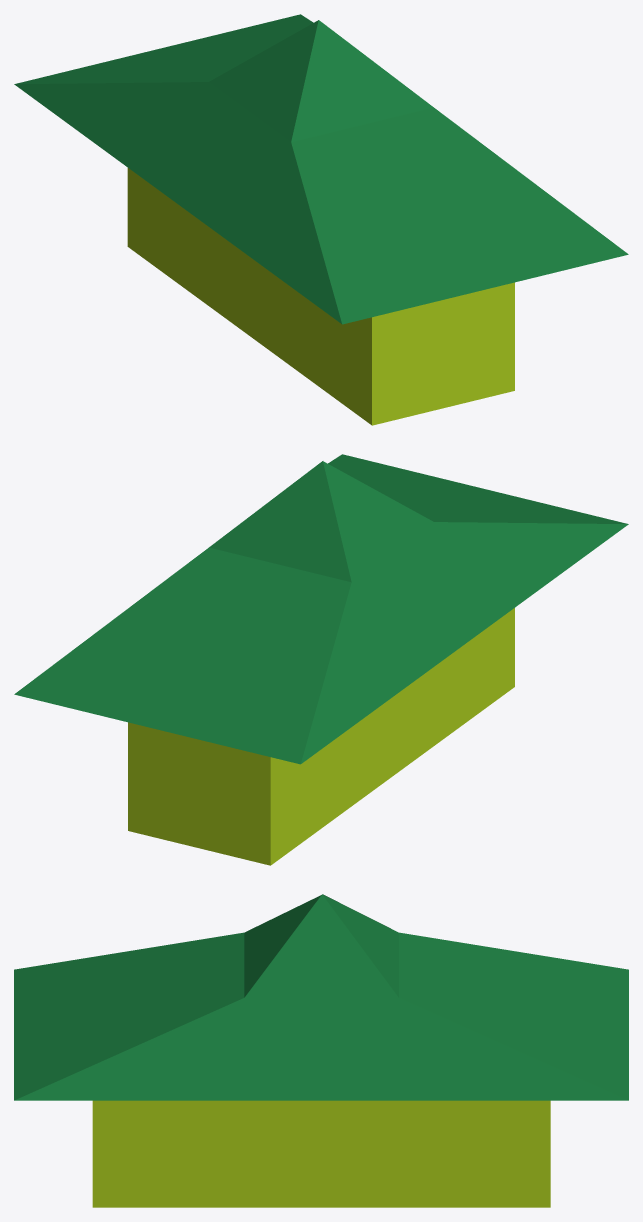
File: hometexture.fbx
The picture shows the model from 3 angles, top to bottom: view 1: azimuth 30°, elevation 25°; view 2: azimuth 150°, elevation 25°; view 3: azimuth 270°, elevation 25°; orthographic projection. The views are drawn at different scales.
Parts seen in each view (by area): view 1: 立方体; view 2: 立方体; view 3: 立方体.
Boxes of the visible parts, x1,y1,x2,y2 form: 立方体: (14, 14, 628, 425); 立方体: (14, 454, 628, 865); 立方体: (14, 894, 628, 1207).
Size of the model in its own units: 402 by 400 by 797.
